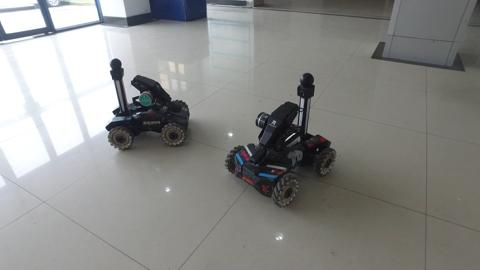chariot: (222, 70, 341, 212), (100, 54, 196, 157)
